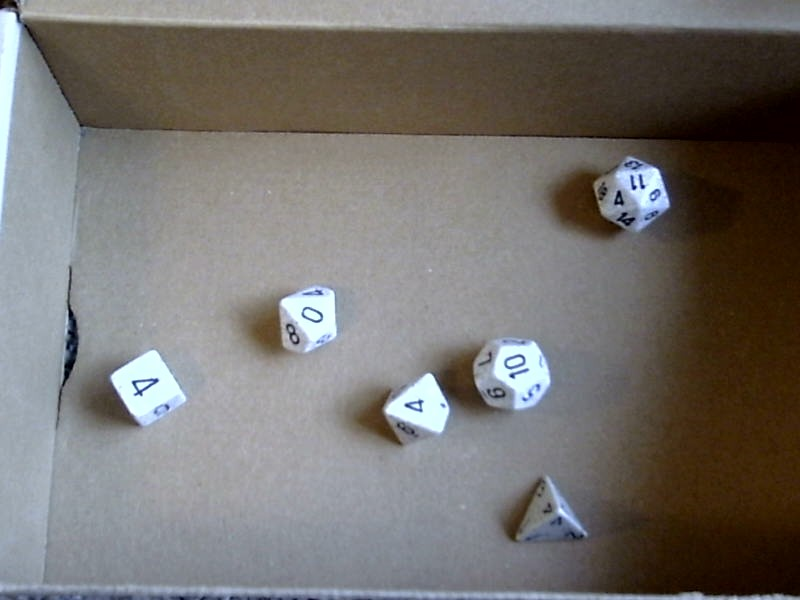d10 10: (273, 279, 341, 359)
d12 10: (471, 334, 559, 413)
d20 11: (585, 148, 675, 242)
d4 4: (507, 471, 590, 549)
d6 4: (104, 343, 193, 436)
d8 4: (377, 369, 451, 452)
